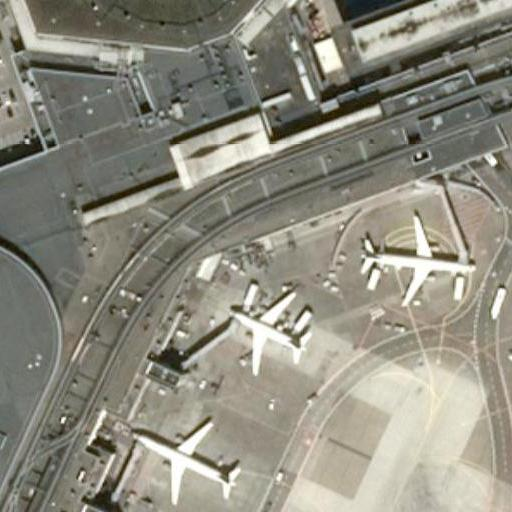Aircraft: (352, 199, 480, 310), (120, 403, 250, 512), (218, 281, 324, 379), (498, 278, 512, 412)
